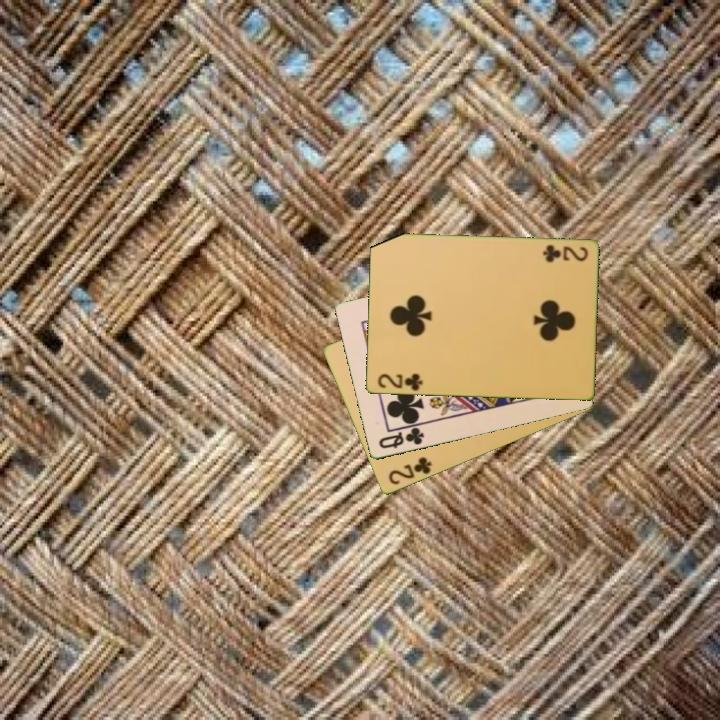2c: (385, 454, 435, 488), (374, 370, 425, 394), (539, 242, 591, 264)
Qc: (375, 424, 427, 452)
